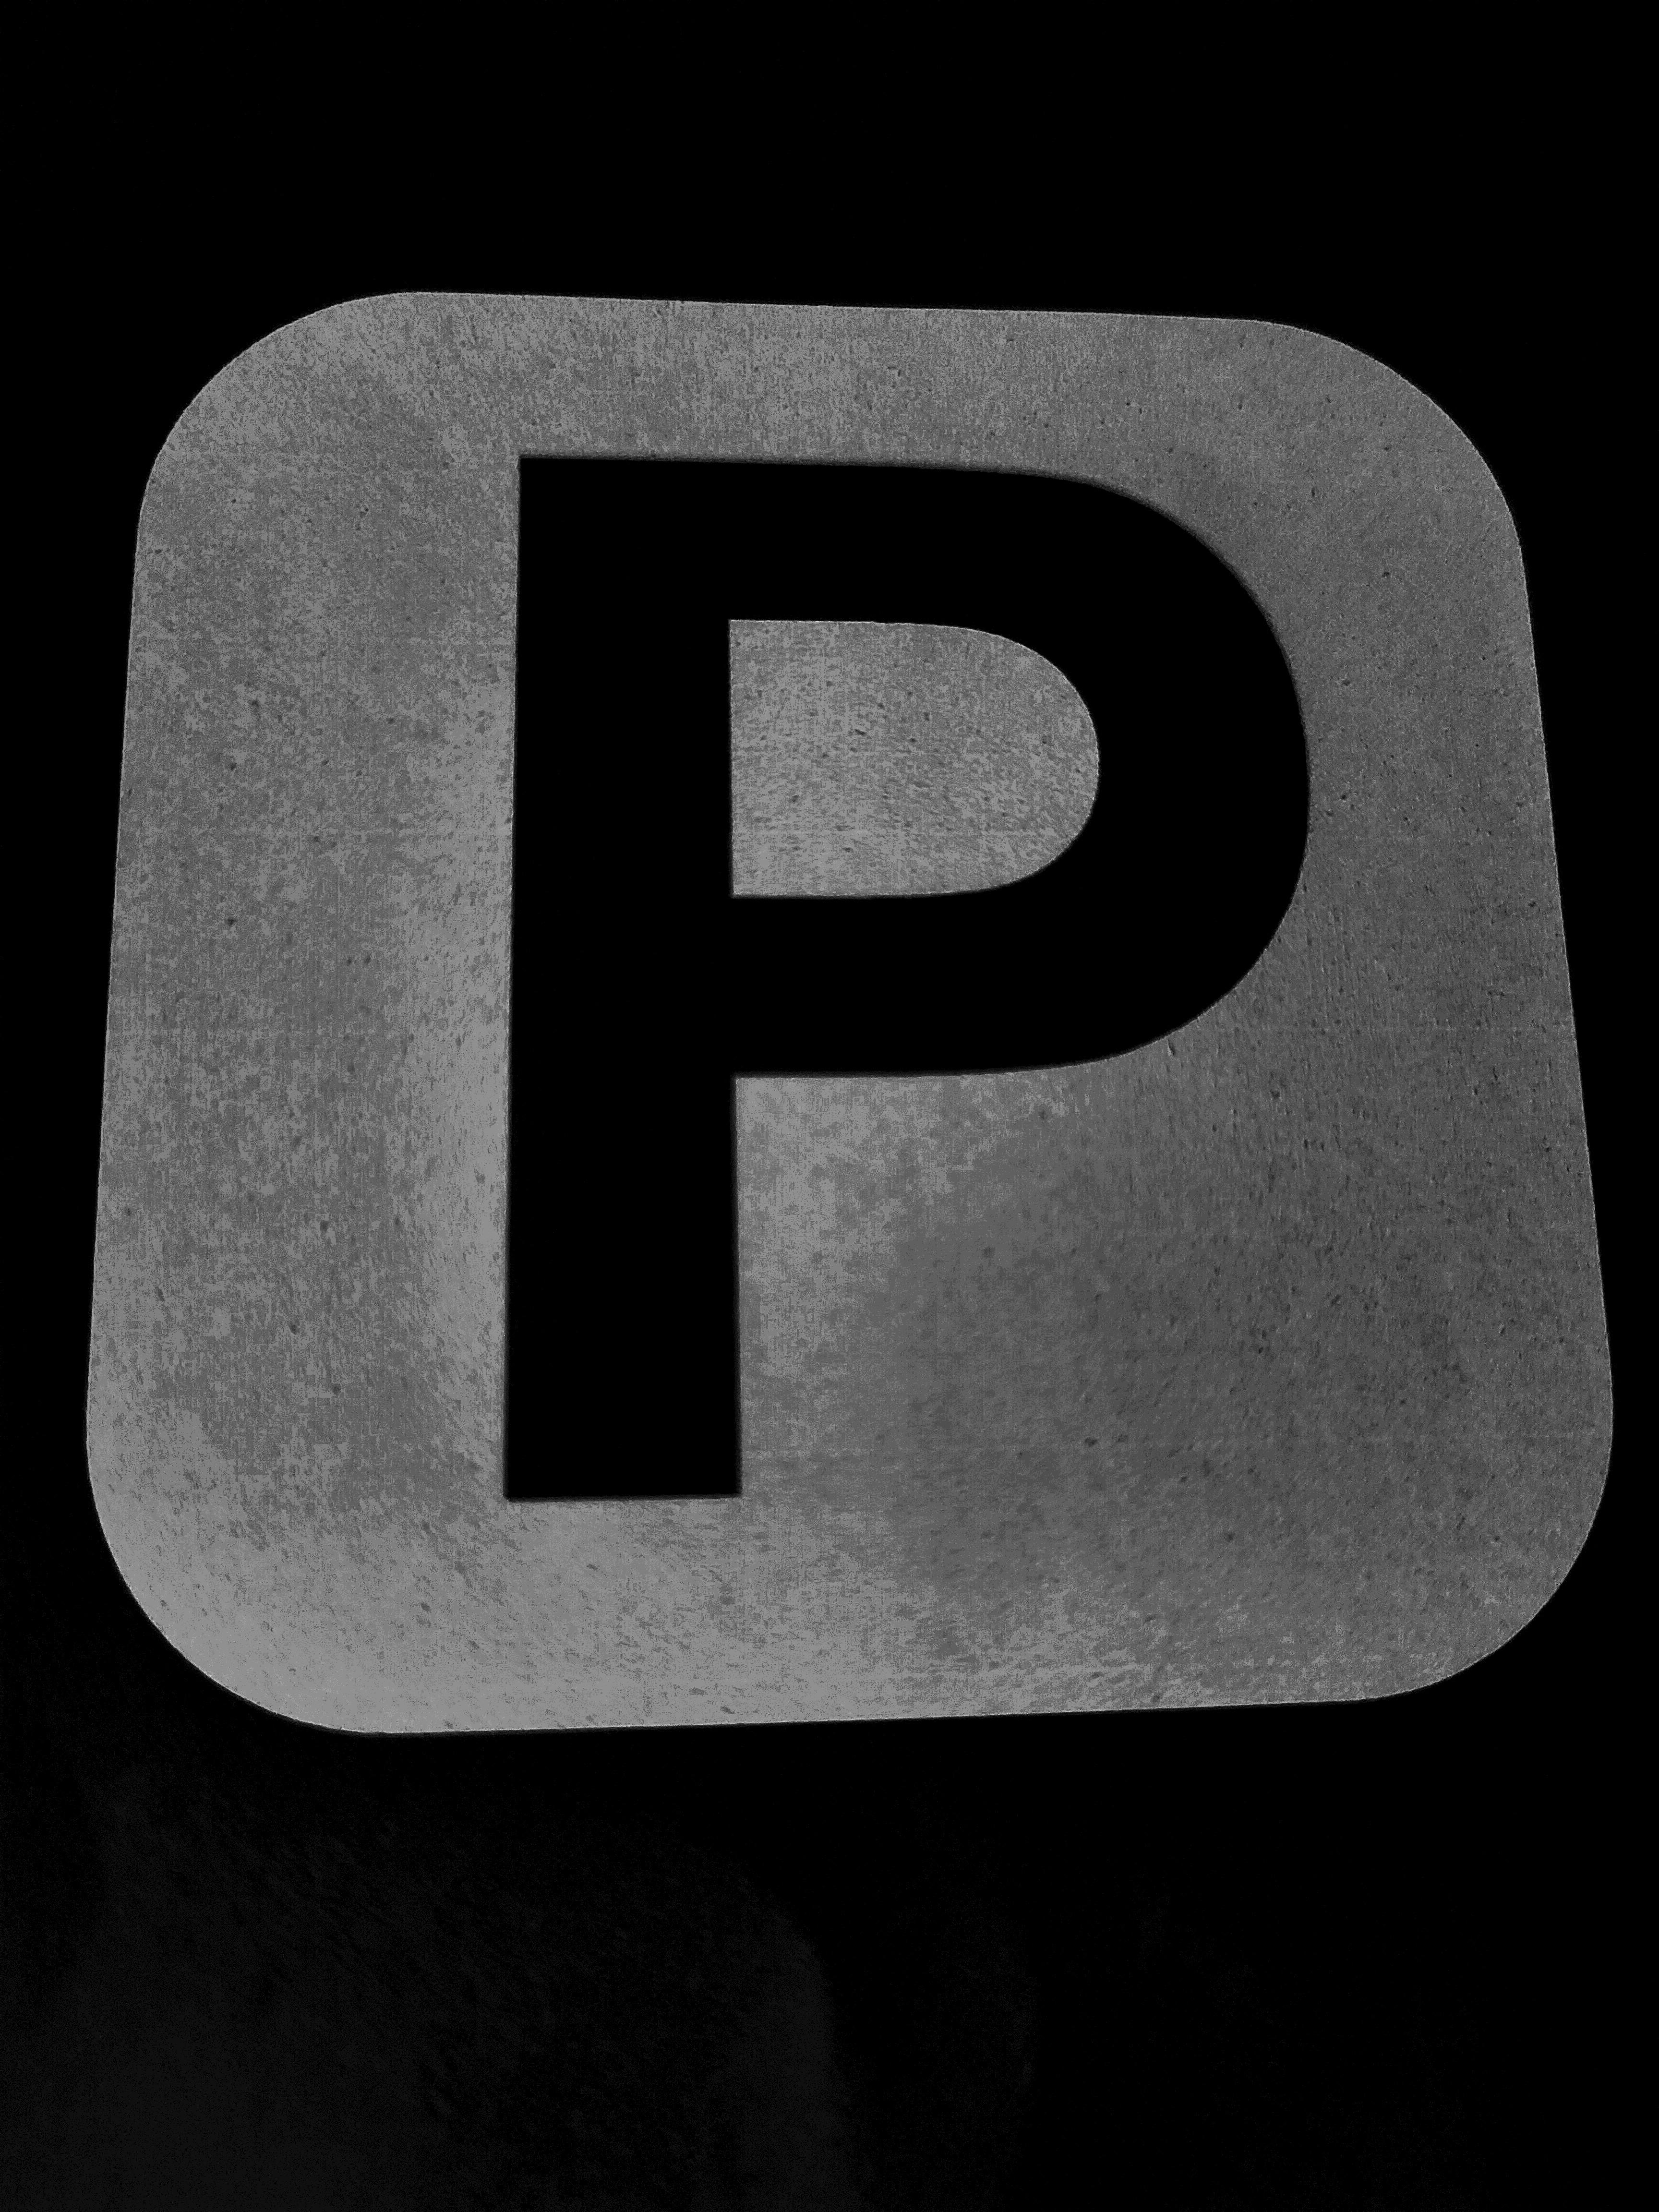parking: (87, 293, 1608, 1738)
